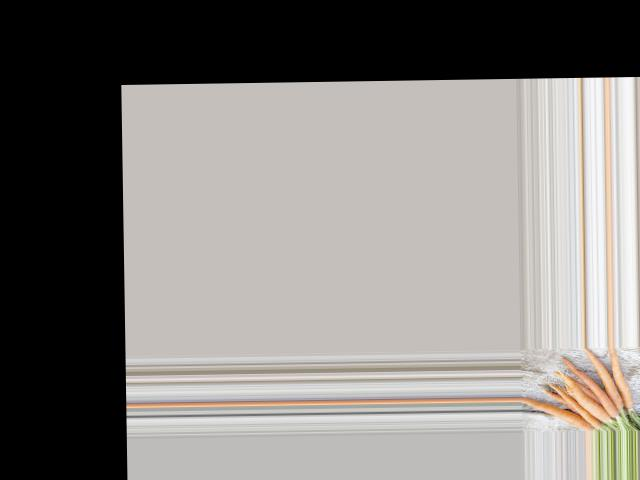carrot: (522, 394, 597, 431)
